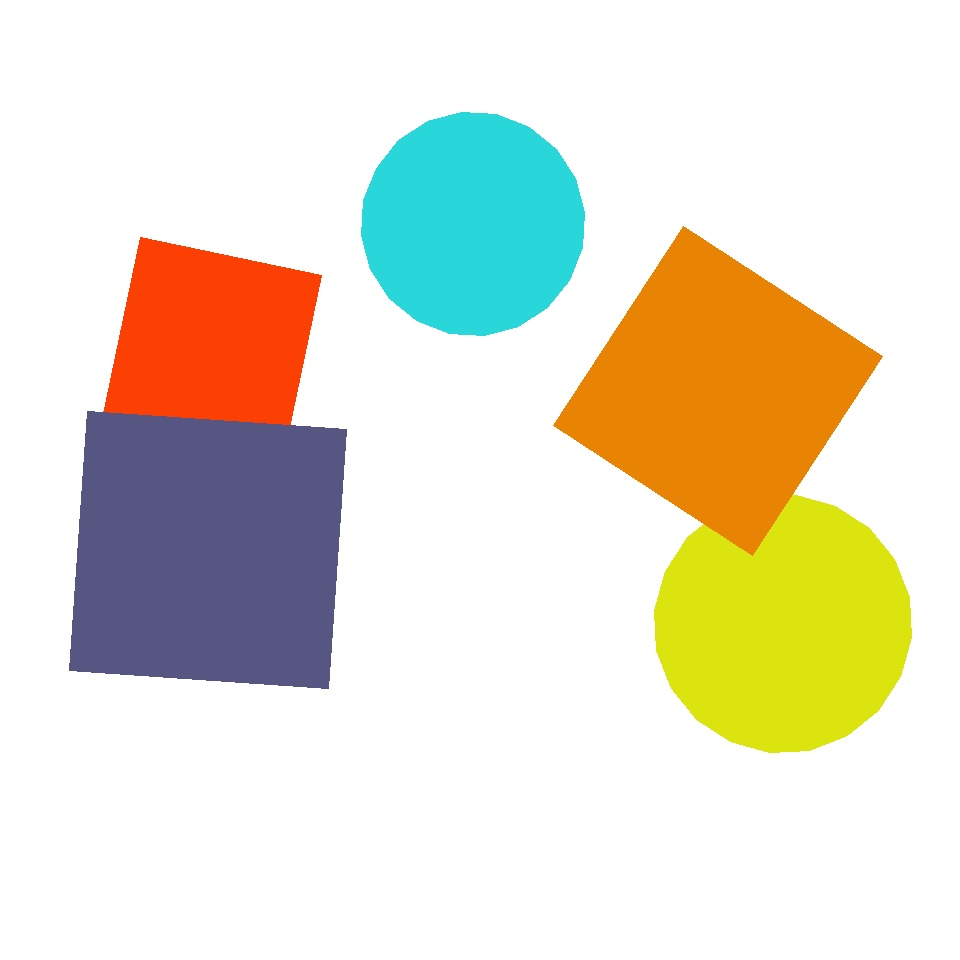circle: (243, 578, 338, 670)
square: (554, 226, 882, 556), (70, 411, 346, 688), (102, 237, 322, 456), (190, 270, 296, 374)
triangle: (635, 178, 929, 472), (655, 496, 912, 753), (362, 112, 584, 336)
